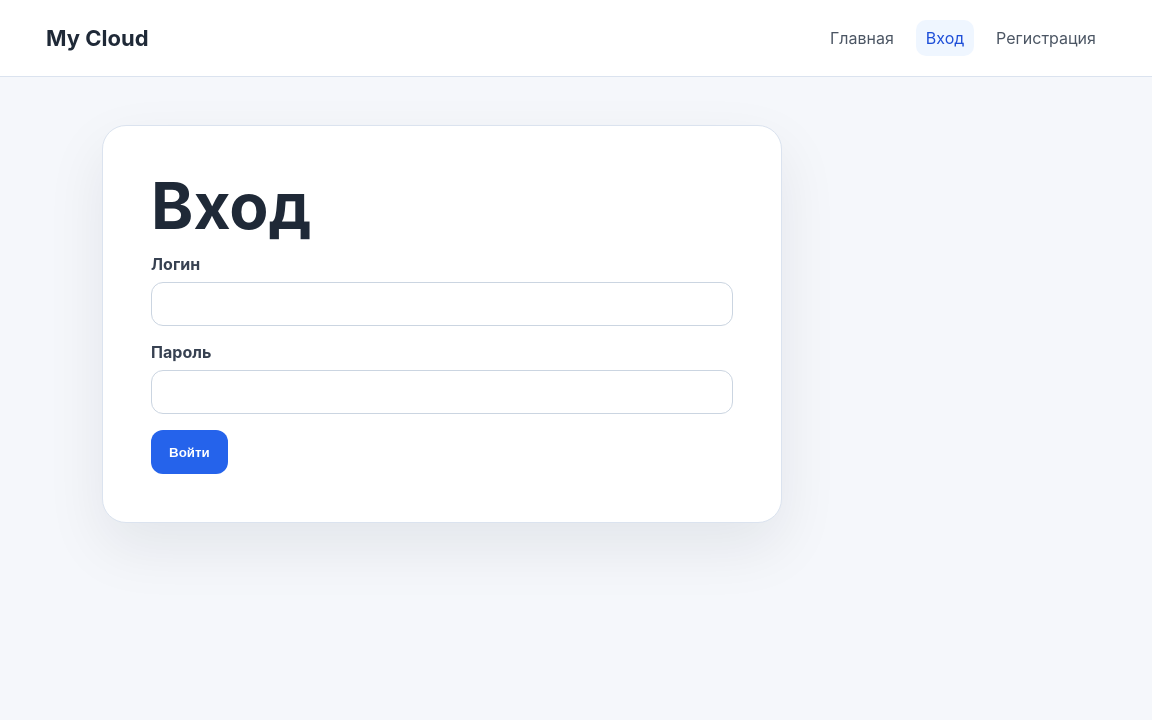
Test: App › logs in user and navigates to storage
In the field labelled "Логин": [442, 304] box top-left (151, 282), bottom-right (733, 326), type "user123"
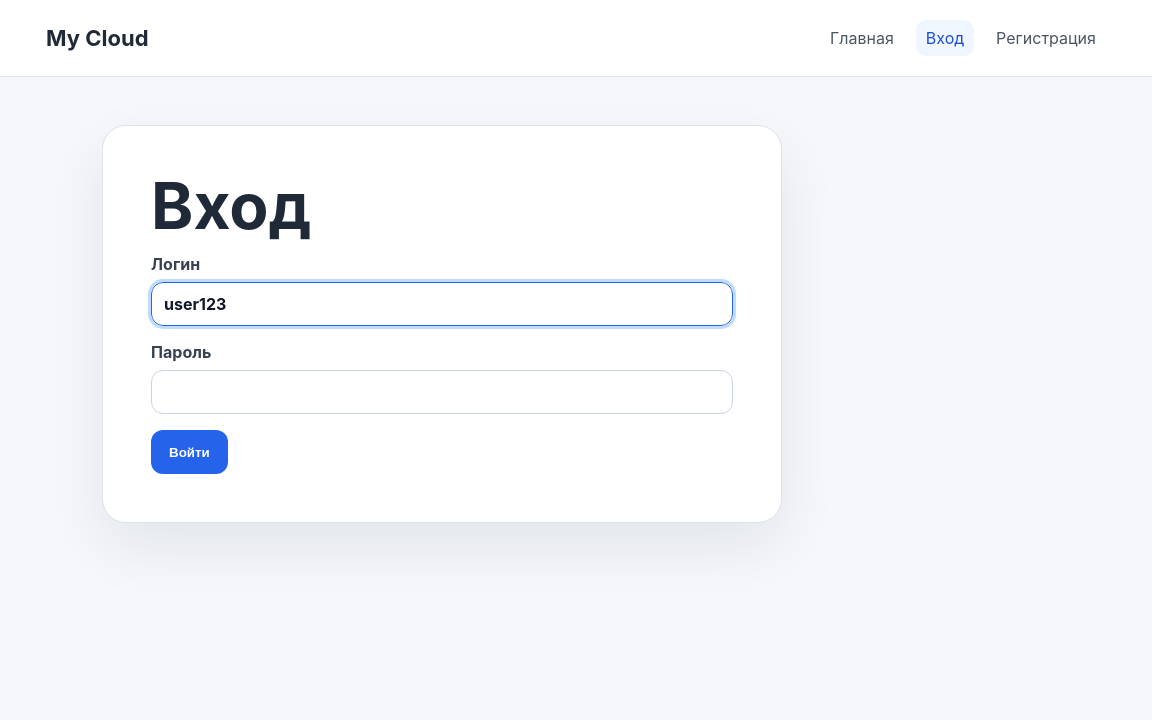
In the password field labelled "Пароль": [442, 392] box top-left (151, 370), bottom-right (733, 414), type "Strong#7"
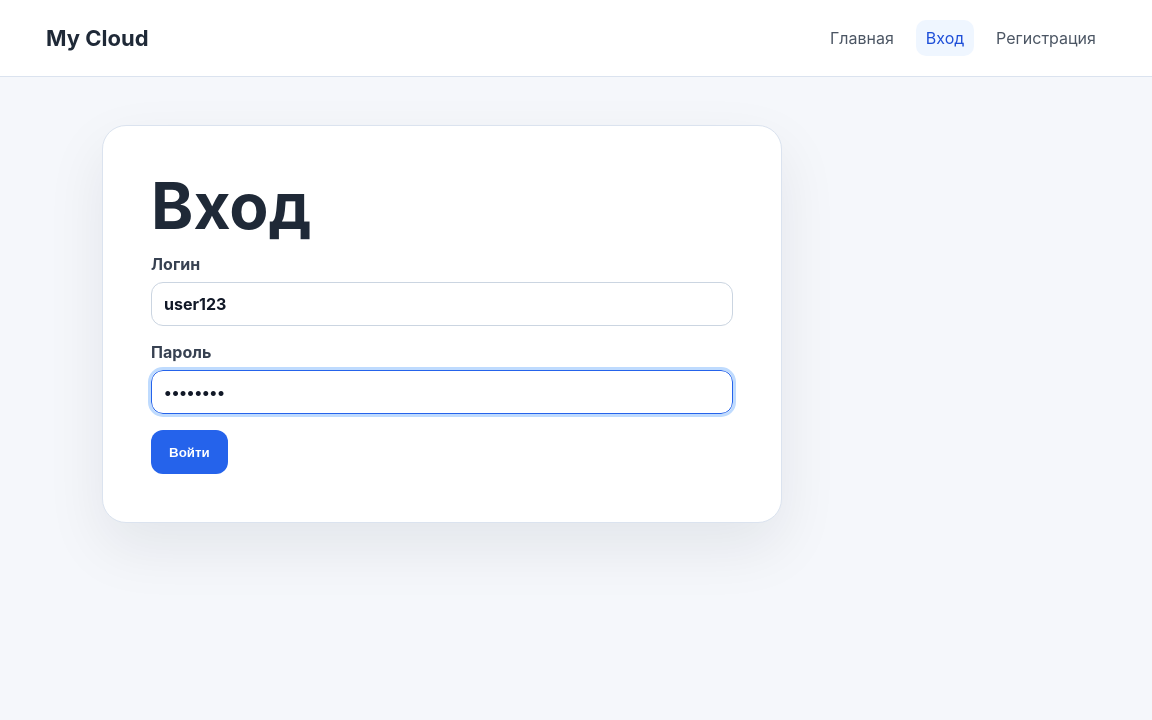
Click the button "Войти": [189, 452] box top-left (151, 430), bottom-right (228, 474)
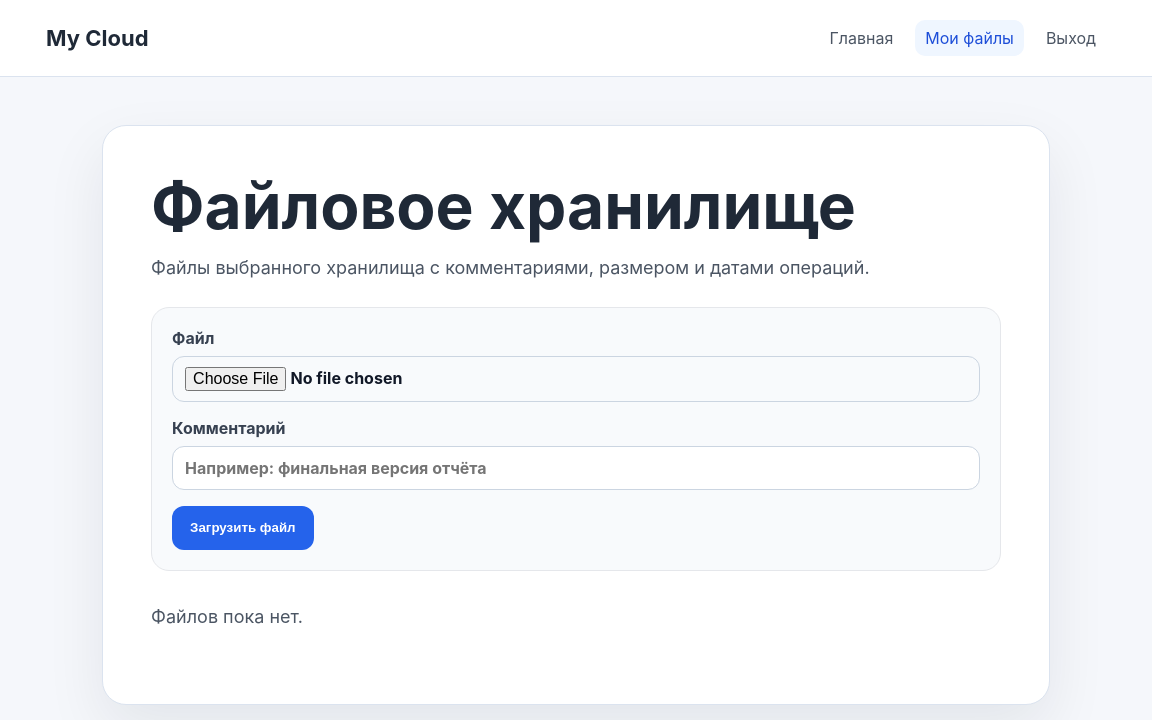
expect the heading "Файловое хранилище" is shown: met, box top-left (151, 167), bottom-right (856, 244)
